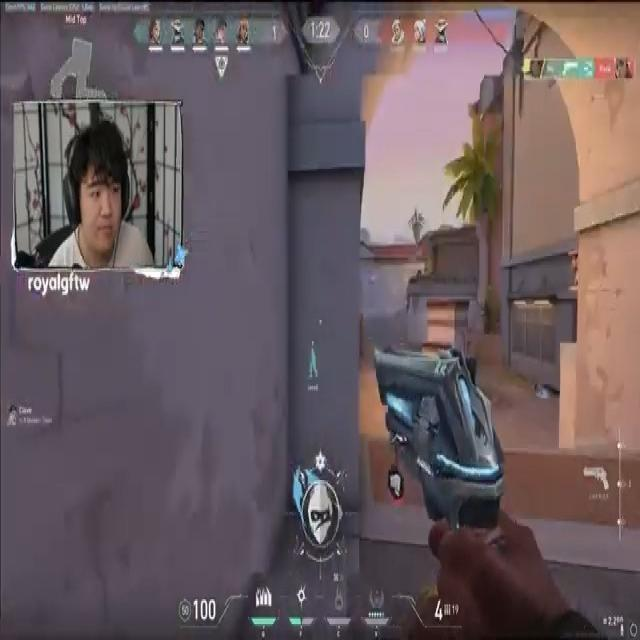ally behind wall: (308, 346, 320, 382)
